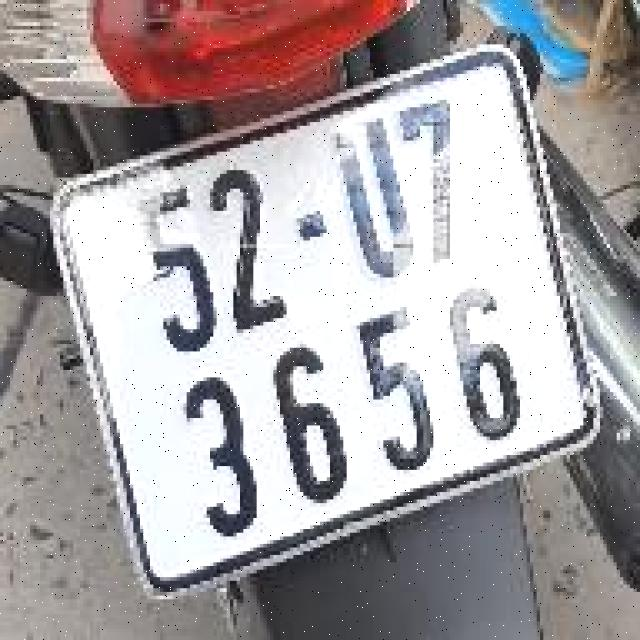2: (200, 152, 301, 355)
3: (170, 355, 274, 561)
5: (340, 281, 459, 500), (121, 170, 237, 376)
6: (258, 326, 373, 530), (435, 271, 540, 455)
7: (394, 85, 485, 288)
U: (309, 116, 430, 292)
